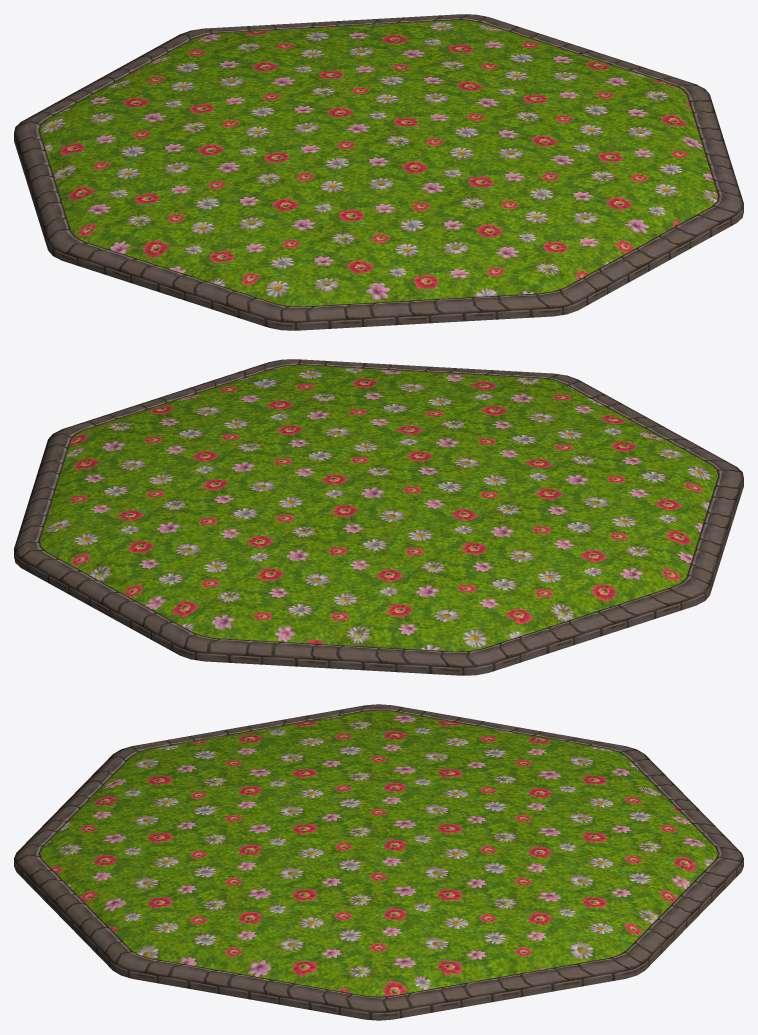
File: garden.fbx
3 views of the same model, one above another, from view 1: azimuth 30°, elevation 25°; view 2: azimuth 150°, elevation 25°; view 3: azimuth 270°, elevation 25° (orthographic). The views are drawn at different scales.
Visible parts, largest first — view 1: Flowers, Stone Edge; view 2: Flowers, Stone Edge; view 3: Flowers, Stone Edge.
Boxes of the visible parts, left/top/right/bottom form: Flowers: left=40, top=20, right=717, bottom=306; Stone Edge: left=14, top=14, right=743, bottom=330; Flowers: left=40, top=365, right=717, bottom=651; Stone Edge: left=14, top=359, right=743, bottom=675; Flowers: left=40, top=710, right=717, bottom=996; Stone Edge: left=14, top=704, right=743, bottom=1020.
Size of the model in its own units: 1031 by 62.79 by 1031.
